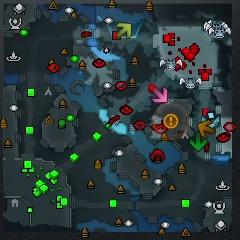Other: (164, 114, 178, 129)
x1: (152, 86, 169, 103)
x2: (116, 21, 132, 38)
x3: (201, 110, 221, 129)
x4: (189, 132, 209, 151)
x5: (197, 120, 215, 138)
